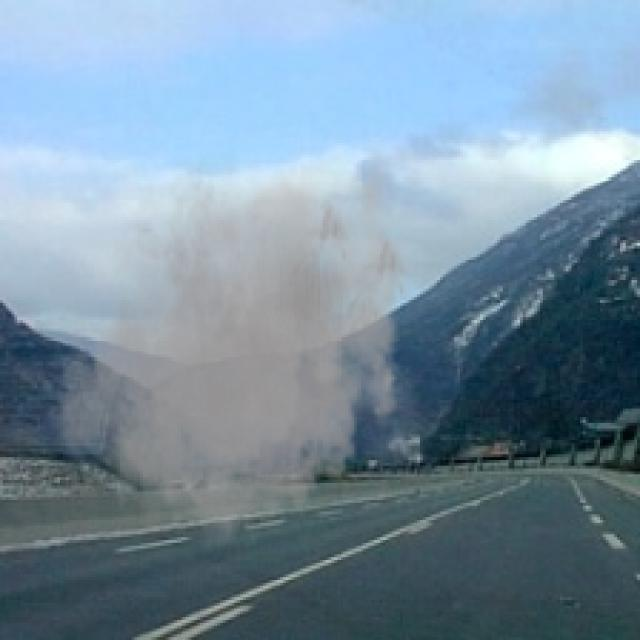smoke: (46, 137, 426, 557)
